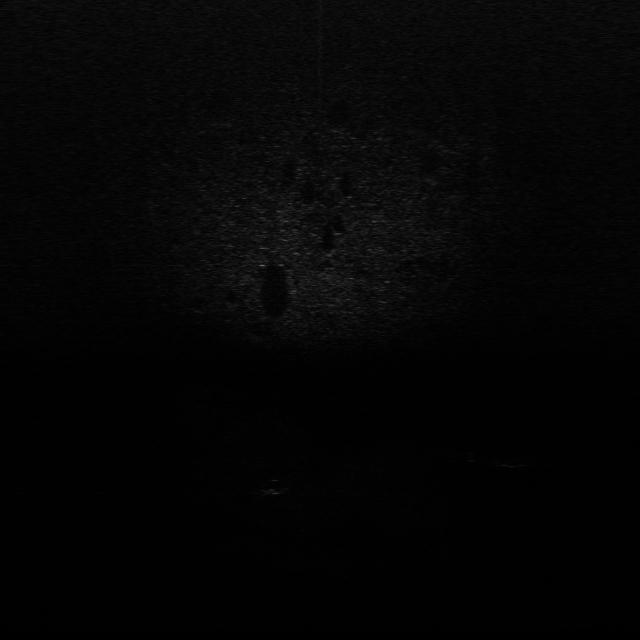ball: (258, 474, 297, 496)
human body: (467, 444, 551, 472)
